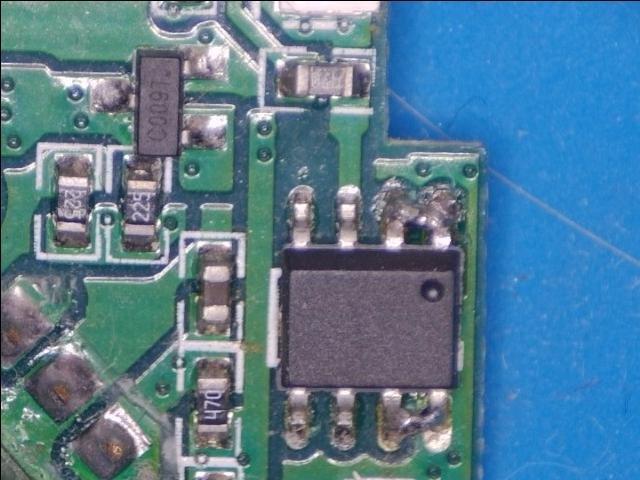Short_circuit: (371, 178, 461, 250), (381, 390, 447, 449)
